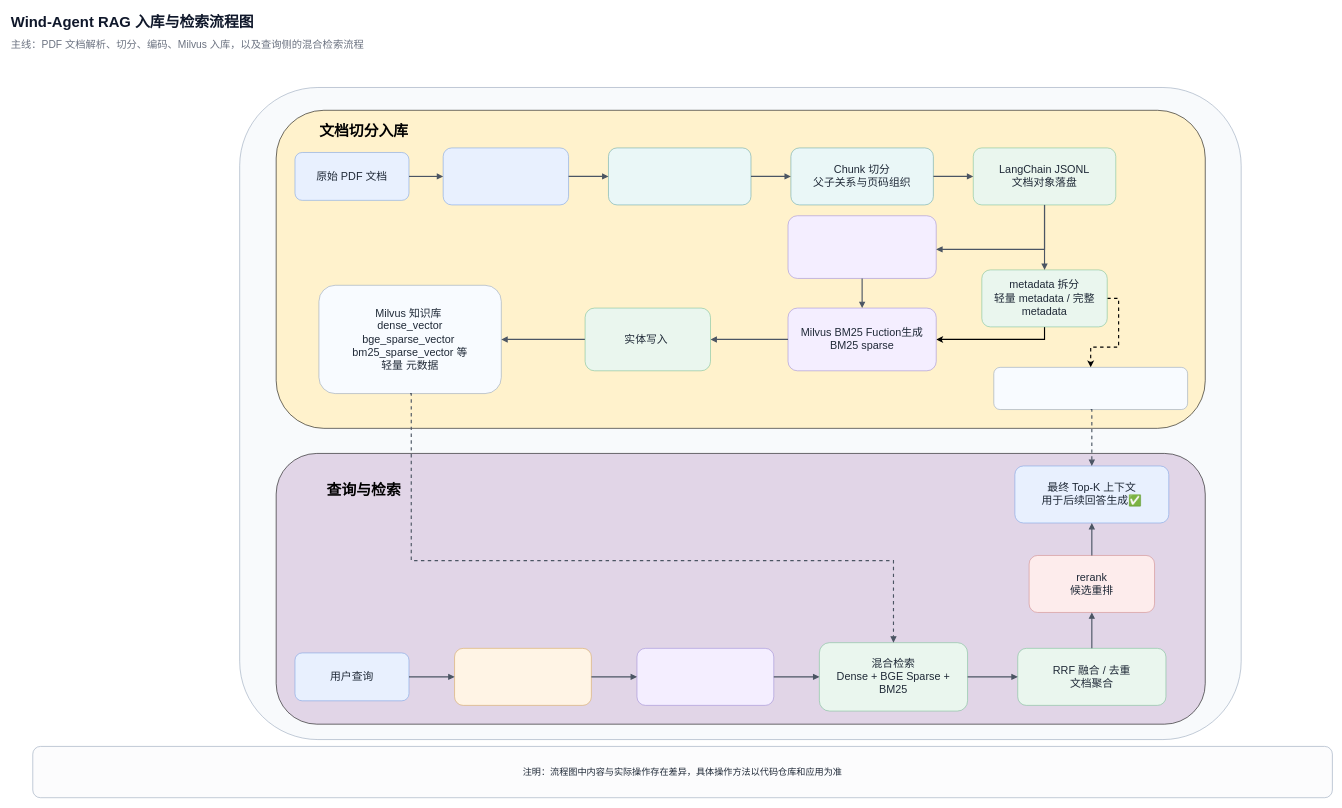
This 1342x808 diagram has some shape labels left out. Each missing label, with the box of its shape:
BGE-M3 编码 生成 dense + sparse 表征: (787, 215, 936, 278)
MinerU 解析: (443, 147, 569, 205)
完整 元数据 外置存储 用于完整的引用、图片、表格回溯: (993, 367, 1188, 410)
文本 / 表格 / 图片 结构化抽取: (608, 147, 751, 205)
查询增强 rewrite / 领域扩展: (454, 648, 591, 705)
查询编码 生成 dense / sparse 查询表示: (636, 648, 774, 705)
